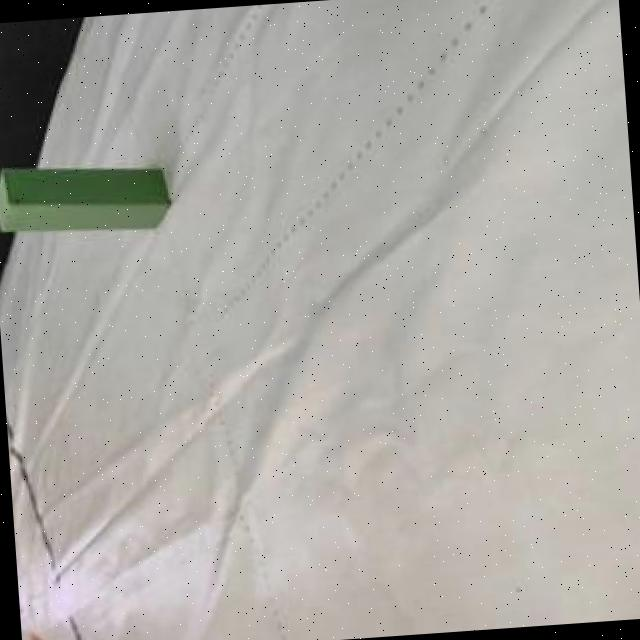greenbox: (0, 156, 169, 238)
